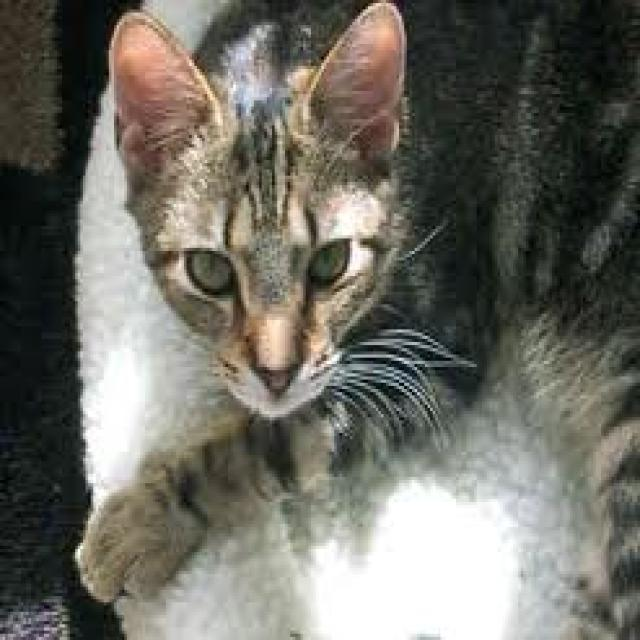Bengal: (102, 0, 426, 425)
